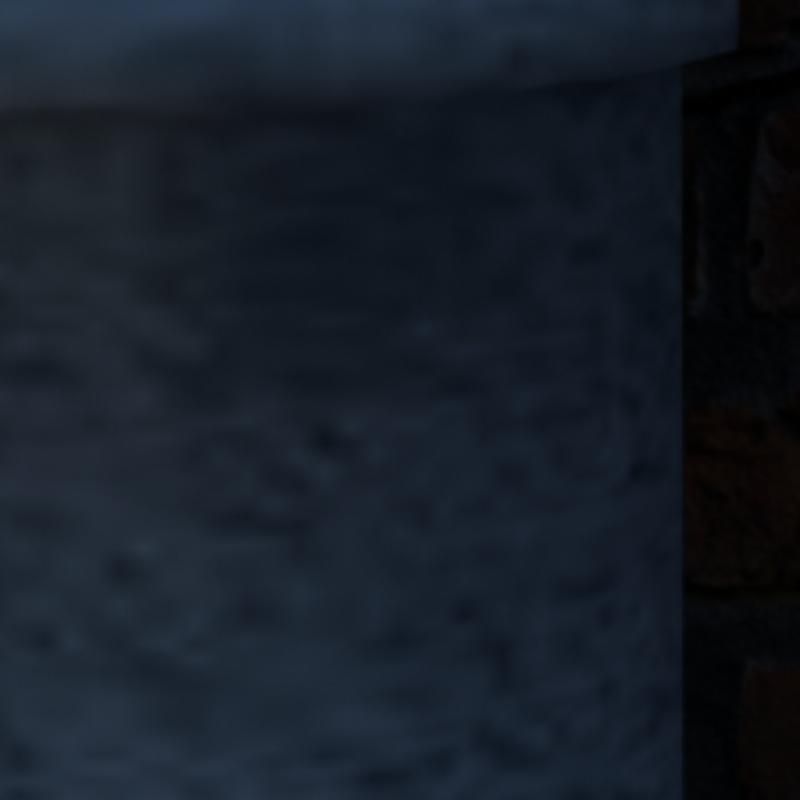pothole: (682, 68, 796, 114)
